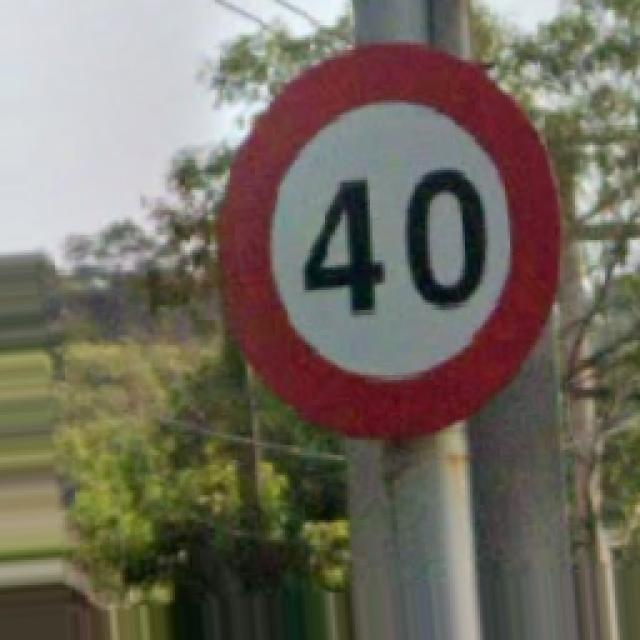Speed Limit -40-: (222, 45, 555, 432)
